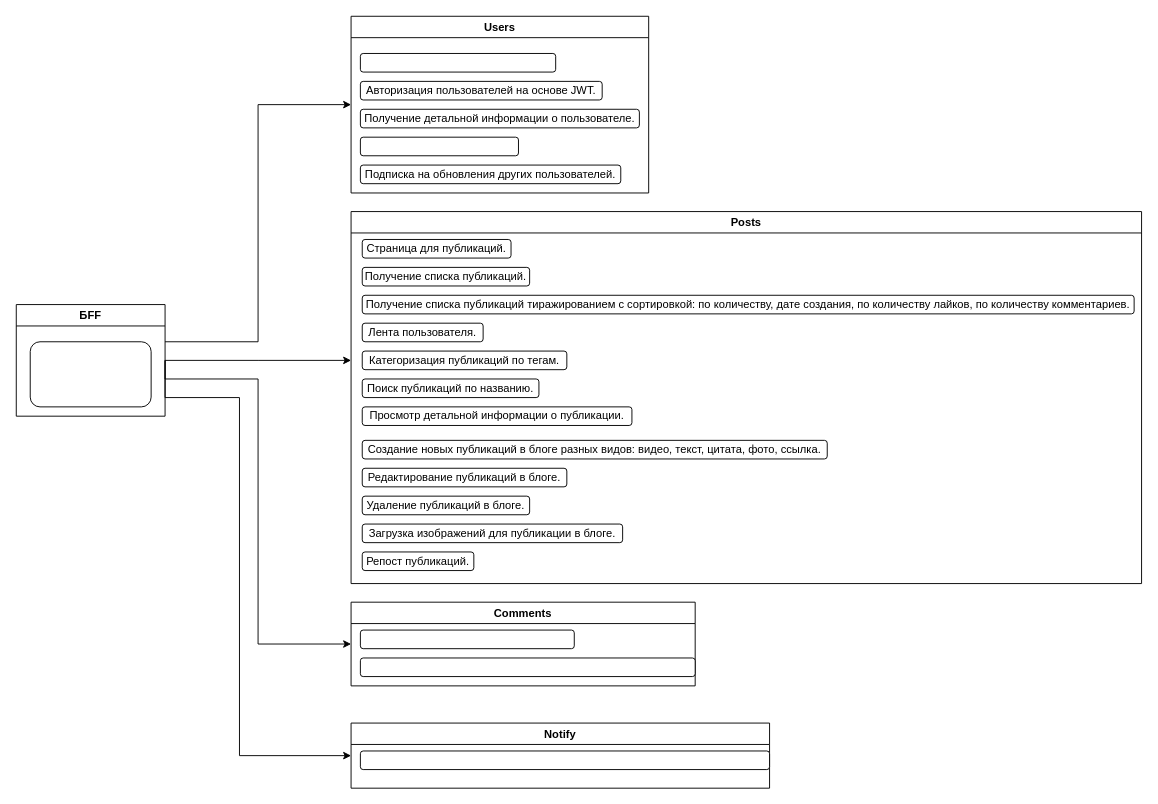
Some shapes in this 1158 by 804 pixel diagram are drawn without their labels. Each missing label, with the centre of its shape:
Бэкенд для фронтенда: [90,374]
Комментирование публикаций в блоге.: [466,639]
Лайки к публикации. Подсчет количества лайков к публикации.: [527,667]
Рассылка почтовых сообщений по электронной почте о новых публикациях.: [564,760]
Регистрация новых пользователей.: [457,62]
Смена пароля пользователя.: [438,146]
